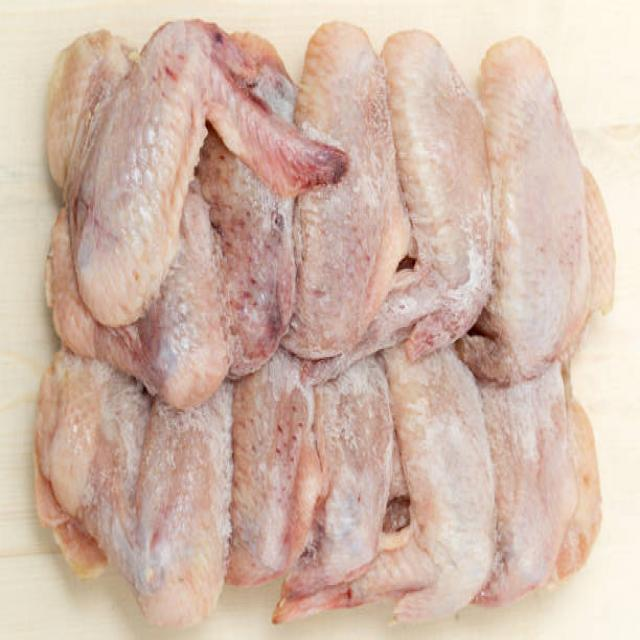chicken wing: (49, 14, 330, 308)
